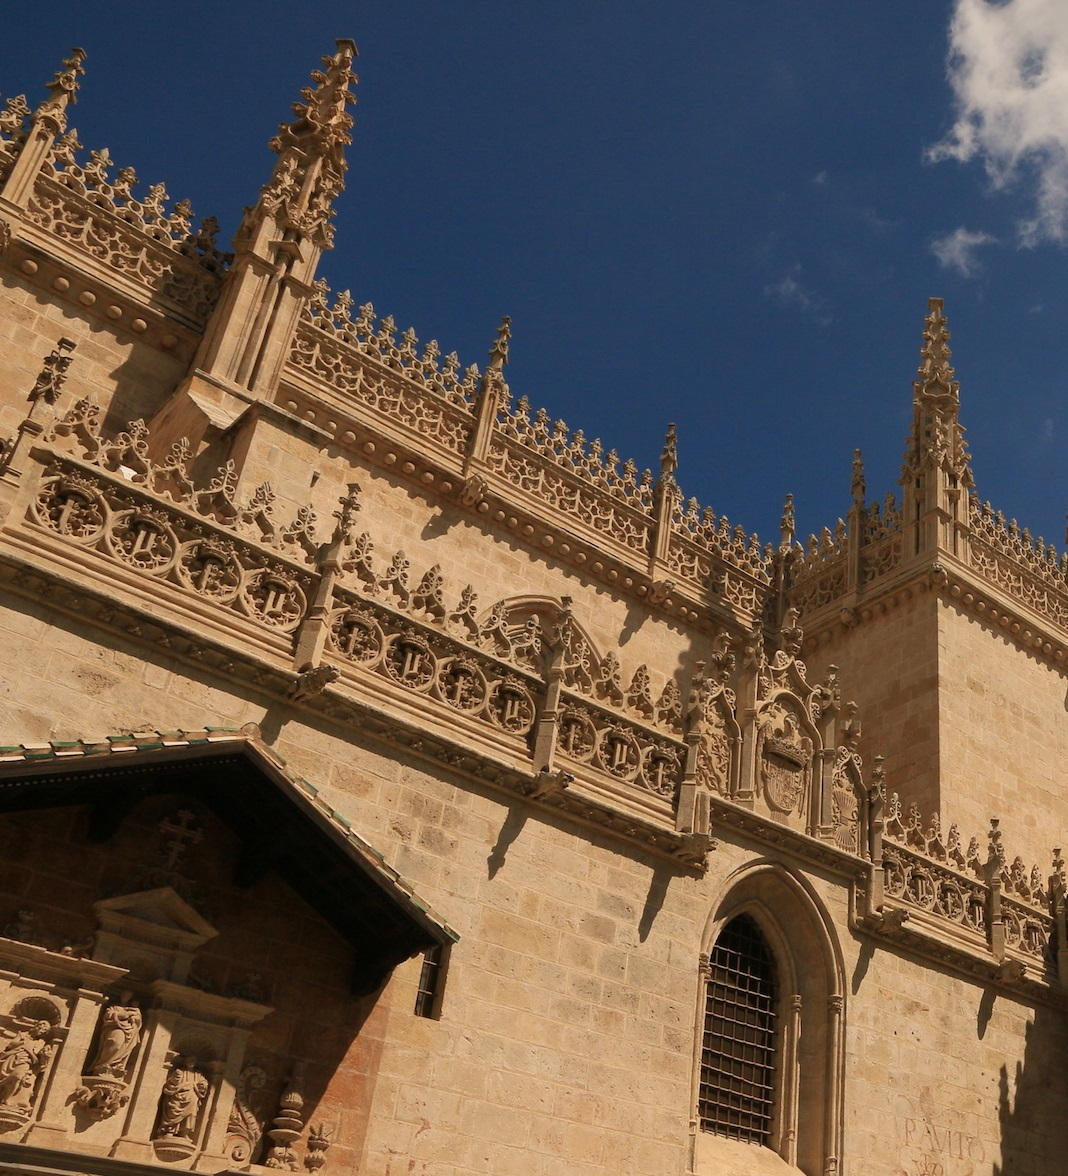arco-apuntado: (695, 895, 807, 1014)
fronton: (91, 879, 222, 952)
pinaculo-gotico: (250, 30, 381, 253), (895, 277, 974, 492)
